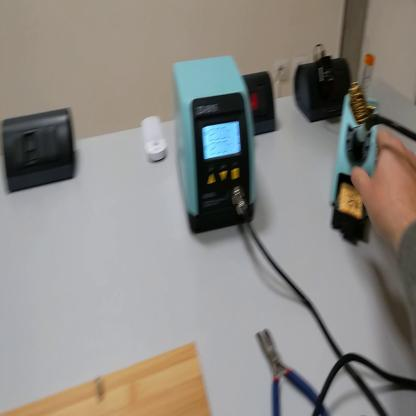hand: (354, 125, 416, 251)
pliers: (258, 323, 331, 416)
socket: (292, 58, 355, 123), (242, 70, 279, 137)
welder base: (331, 52, 381, 250)
welder probe tip: (345, 118, 368, 164)
welder station: (169, 59, 261, 237)
working area: (1, 340, 213, 416)
